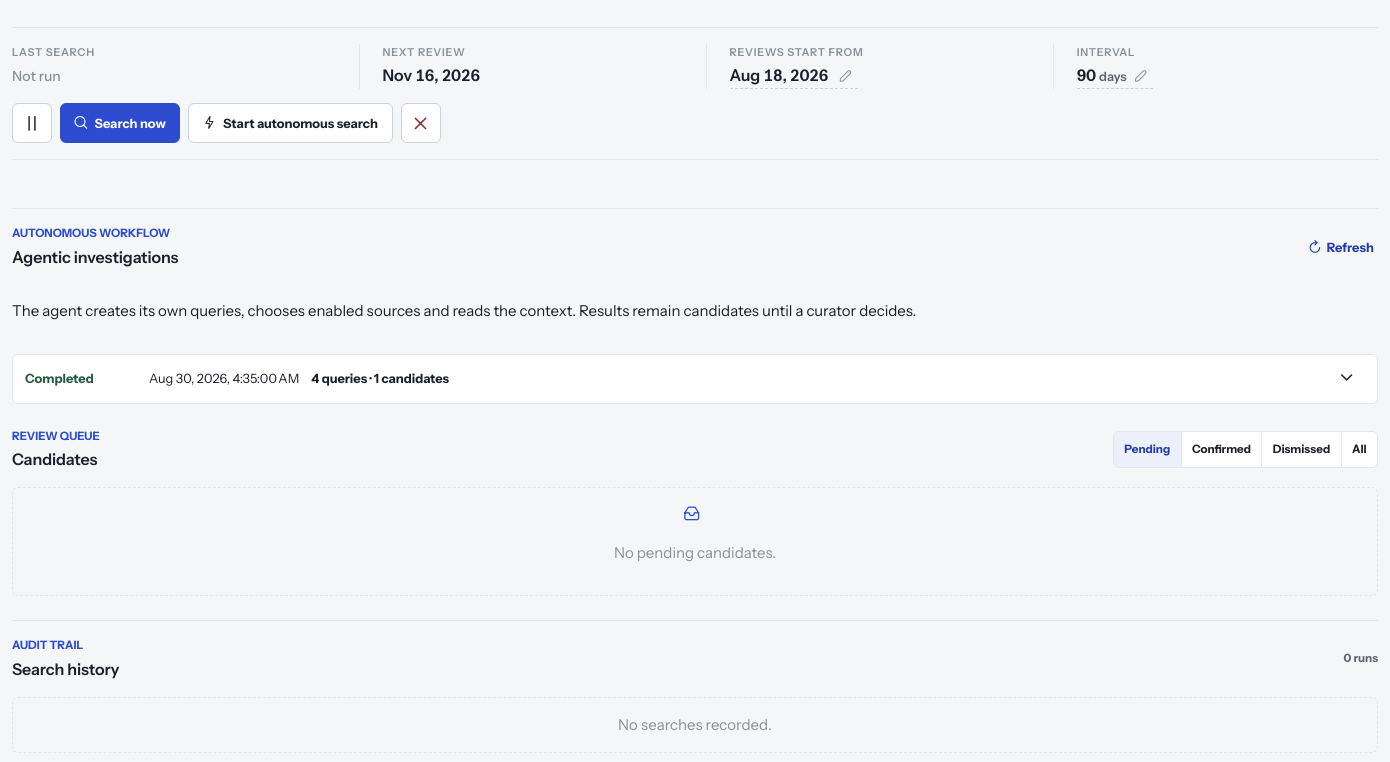
Scenario: ScientificReturnPanelComponent › shows what each trajectory event actually says
(page scrolled)
Click the button with class "run-row".
click(59, 378)  # box [13,354,1377,402]
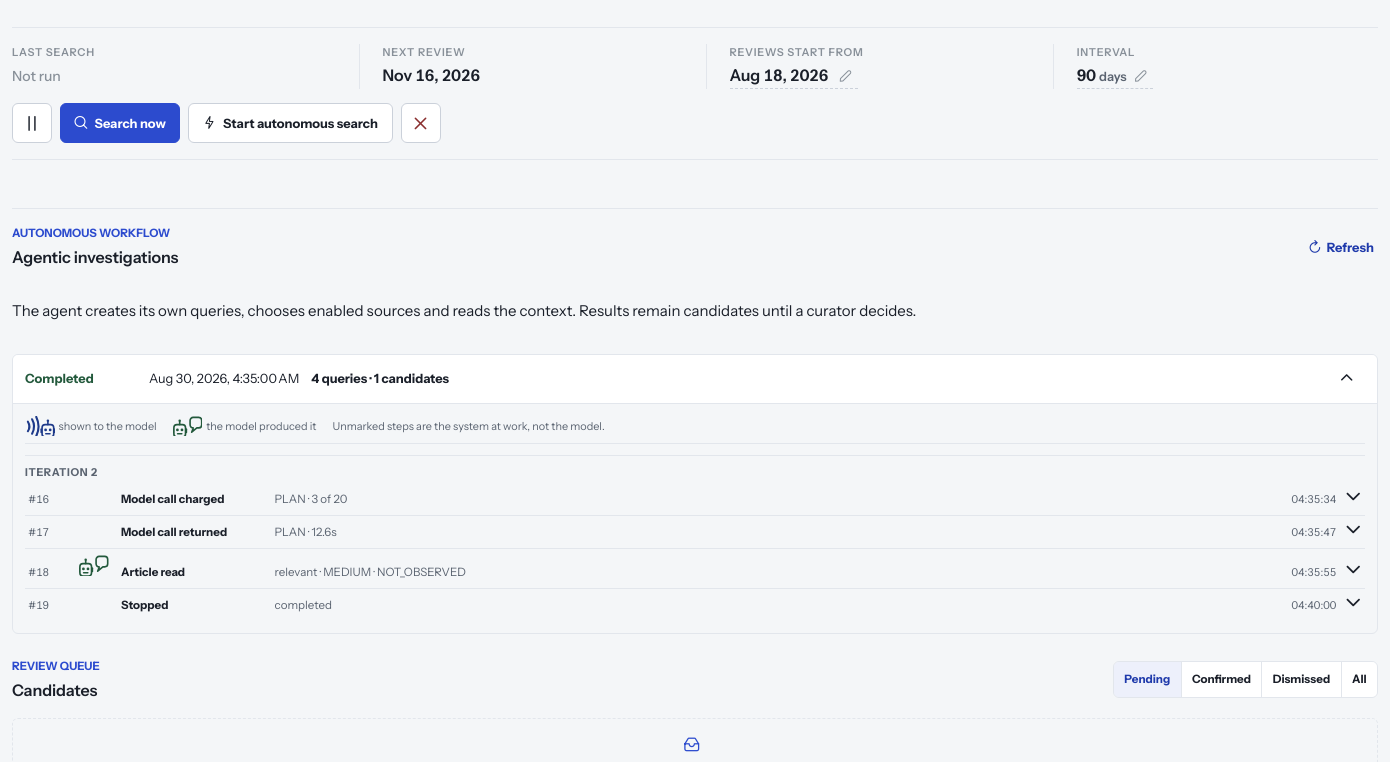
Expected: the text "Model call charged" is shown, [121,492,224,506]
Expected: the text "PLAN · 3 of 20" is shown, [275,492,348,506]
Expected: the text "12.6s" is shown, [275,525,337,539]
Click the button with class "trajectory-event__row" that starts with "Article read".
click(167, 573)  # box [25,549,1365,588]
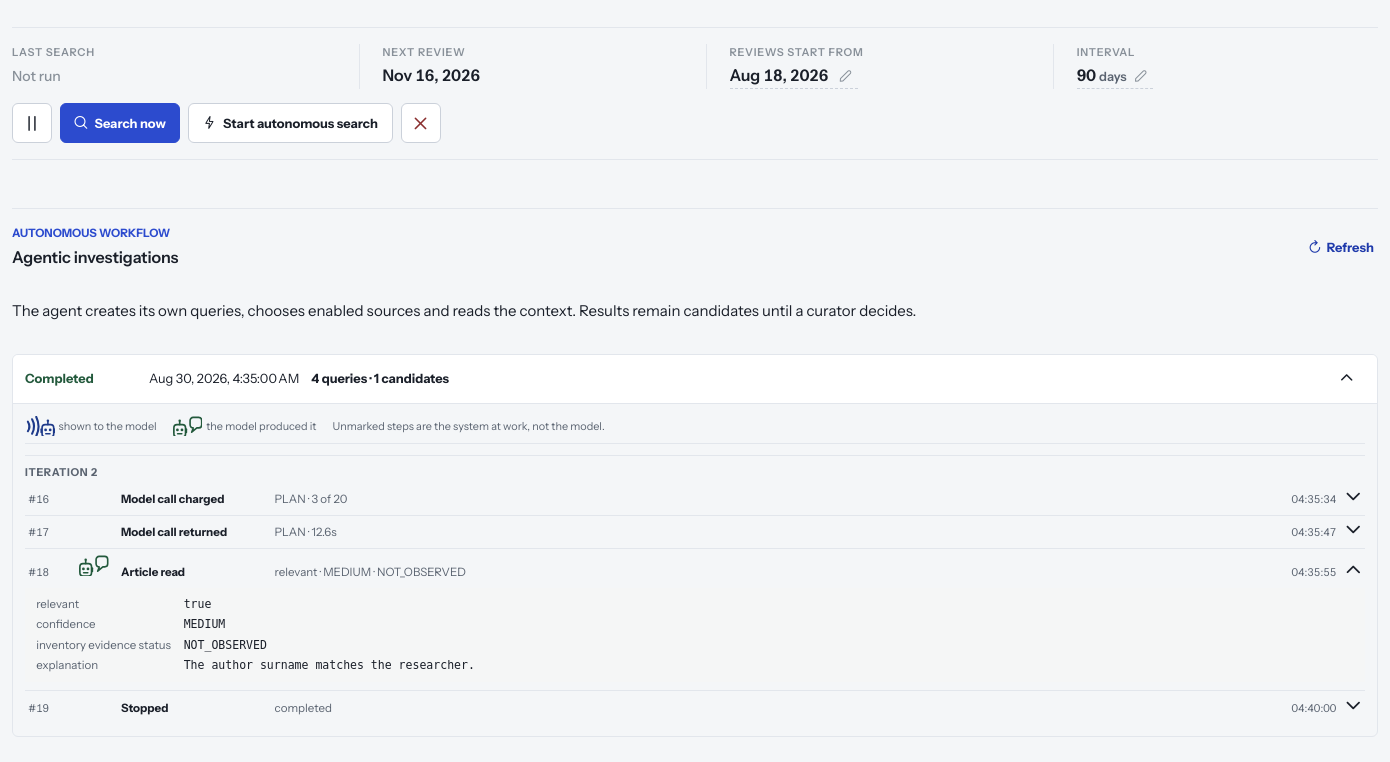
Expected: the text "The author surname matches the researcher." is shown, [184,658,475,672]
